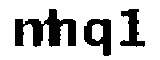1: (115, 6, 144, 49)
h: (47, 5, 77, 52)
n: (10, 17, 43, 51)
q: (83, 15, 112, 60)
